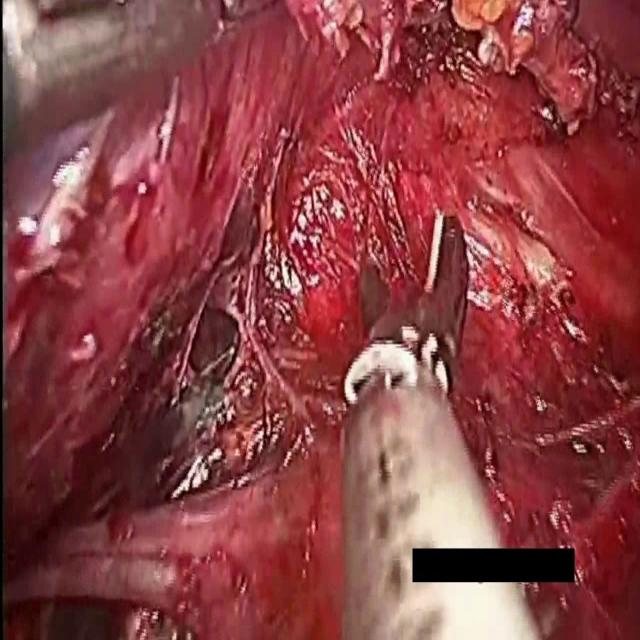surgical-area: (0, 0, 640, 639)
surgical-tool: (342, 215, 546, 639), (0, 0, 268, 168)
